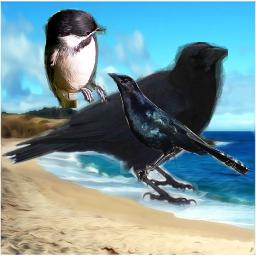Crow: (2, 42, 228, 209), (107, 73, 249, 182)
Swallow: (42, 6, 110, 108)
